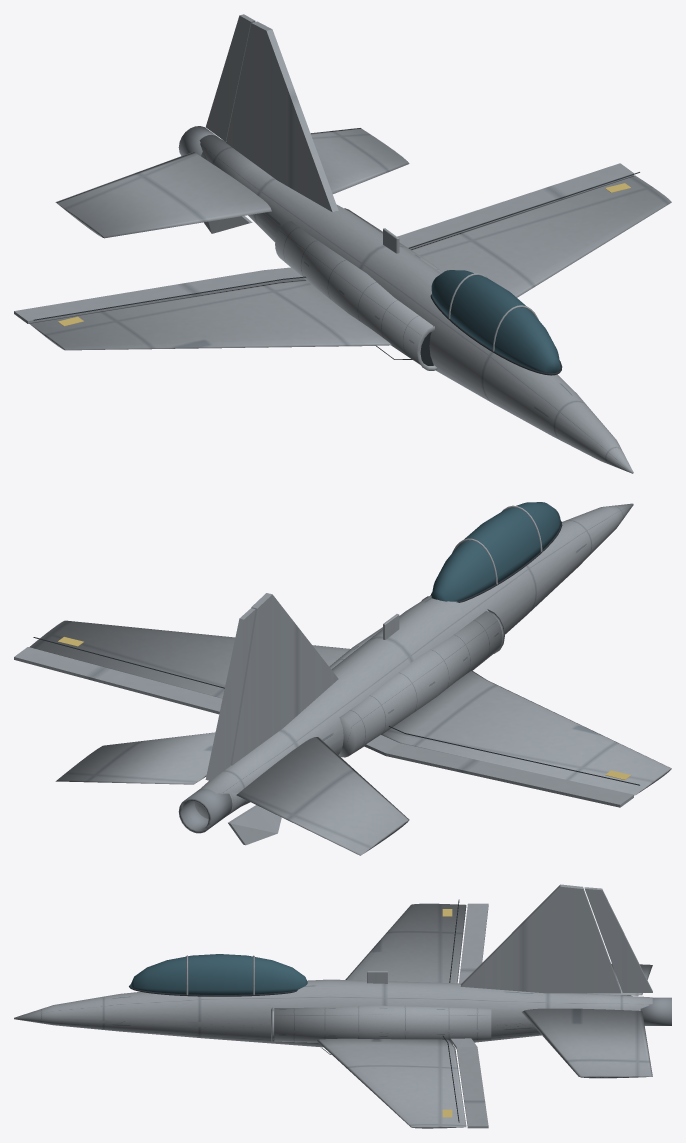
File: hawk-t2.glb
3 views of the same model, one above another, from view 1: azimuth 30°, elevation 25°; view 2: azimuth 150°, elevation 25°; view 3: azimuth 270°, elevation 25° (orthographic). The views are drawn at different scales.
Visible parts, largest first — view 1: airframe_static, tailplane_L, canopy, elevon_L, elevon_R, tailplane_R, rudder_1; view 2: airframe_static, tailplane_L, canopy, tailplane_R, elevon_L, elevon_R, rudder_1; view 3: airframe_static, tailplane_R, canopy, rudder_1, elevon_R, elevon_L.
Boxes of the visible parts, box(x1,y1,x2,y2) form: airframe_static: box(29, 21, 671, 473); tailplane_L: box(55, 152, 271, 238); canopy: box(430, 270, 562, 375); elevon_L: box(14, 267, 304, 323); elevon_R: box(397, 163, 633, 249); tailplane_R: box(310, 128, 409, 193); rudder_1: box(206, 14, 255, 141); airframe_static: box(29, 503, 671, 845); tailplane_L: box(236, 737, 409, 855); canopy: box(430, 502, 562, 602); tailplane_R: box(55, 732, 215, 784); elevon_L: box(364, 735, 633, 807); elevon_R: box(14, 647, 222, 714); rudder_1: box(205, 608, 255, 780); airframe_static: box(14, 884, 671, 1128); tailplane_R: box(522, 1008, 652, 1078); canopy: box(129, 954, 307, 996); rudder_1: box(584, 887, 652, 992); elevon_R: box(450, 1038, 488, 1128); elevon_L: box(459, 903, 488, 983).
Size of the model in its own units: 9.94 by 3.35 by 12.43.
5 materials, 1 textured.
